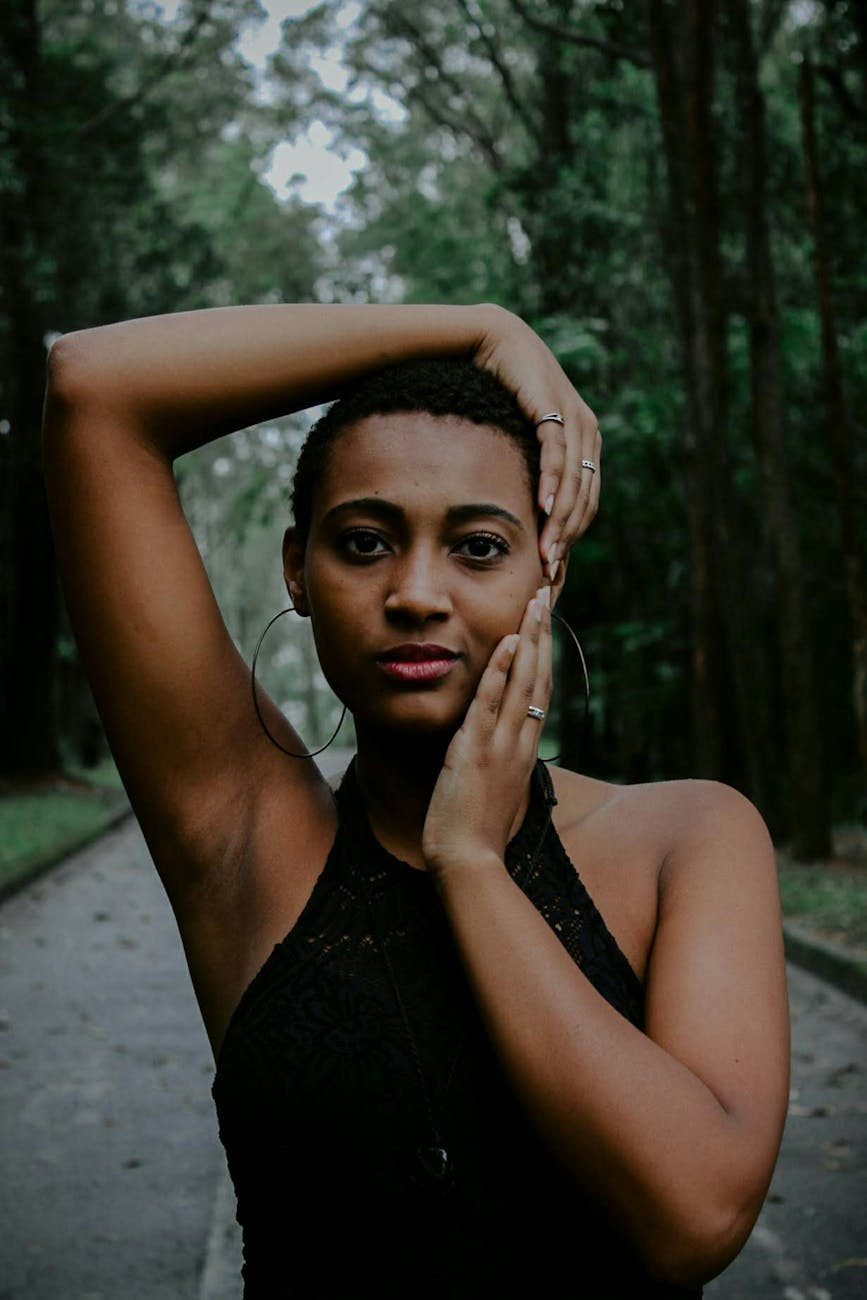sleeveless_top: (188, 752, 699, 1298)
